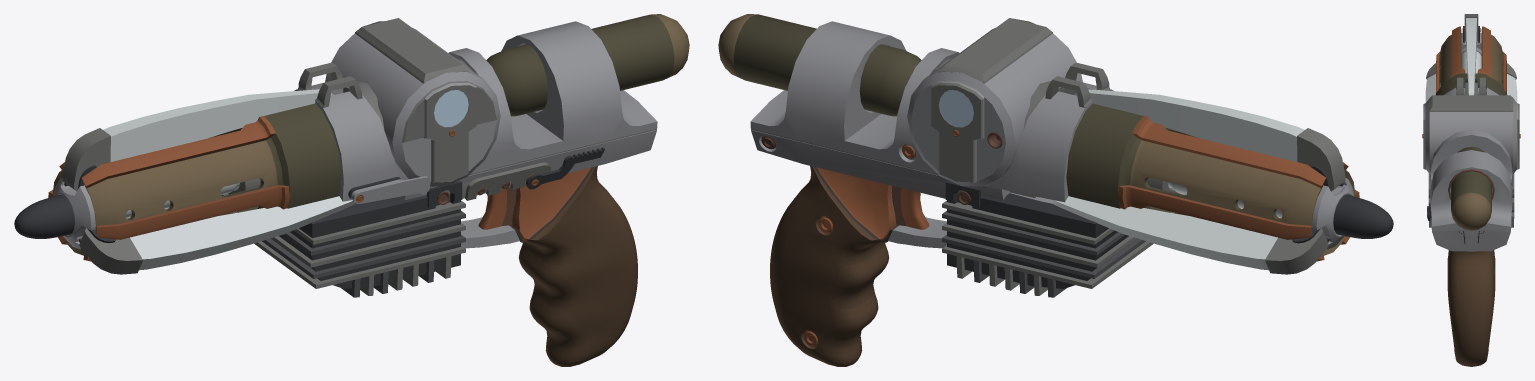
File: grapply.fbx
3 views of the same model, side by side, from view 1: azimuth 30°, elevation 25°; view 2: azimuth 150°, elevation 25°; view 3: azimuth 270°, elevation 25° (orthographic). The views are drawn at different scales.
Parts seen in each view (by area): view 1: Cylinder.002, Cube.001, Cylinder, Cylinder.003, Cylinder.004, Cube.010, Cylinder.010, Cube, Cube.026, Cube.025, Cylinder.014, Cylinder.013 (+14 smaller); view 2: Cylinder.002, Cube.001, Cylinder, Cylinder.004, Cylinder.003, Cube.010, Cylinder.010, Cube, Cube.009, Cube.025, Cylinder.014, Cylinder.013 (+10 smaller); view 3: Cylinder.002, Cube.001, Cylinder.004, Cylinder.003, Cylinder, Cylinder.013, Cylinder.010, Cube.025, Cylinder.014, Cylinder.022, Cube.010, Cube.009 (+6 smaller).
Part boxes in pixels (x1,y1,x2,y2): Cylinder.002: (294, 21, 657, 201); Cube.001: (511, 166, 637, 366); Cylinder: (53, 103, 341, 255); Cylinder.003: (486, 14, 689, 116); Cylinder.004: (325, 27, 500, 186); Cube.010: (254, 200, 465, 288); Cylinder.010: (48, 116, 289, 261); Cube: (279, 190, 460, 288); Cube.026: (130, 196, 355, 270); Cube.025: (103, 89, 333, 161); Cylinder.014: (423, 81, 476, 182); Cylinder.013: (355, 18, 468, 83); Cylinder.002: (750, 21, 1113, 203); Cube.001: (770, 166, 896, 366); Cylinder: (1066, 103, 1354, 255); Cylinder.004: (907, 27, 1082, 186); Cylinder.003: (718, 14, 921, 116); Cube.010: (942, 200, 1153, 288); Cylinder.010: (1118, 116, 1359, 261); Cube: (947, 190, 1128, 288); Cube.009: (1050, 196, 1277, 270); Cube.025: (1074, 89, 1304, 161); Cylinder.014: (931, 81, 984, 182); Cylinder.013: (939, 18, 1052, 83); Cylinder.002: (1430, 86, 1512, 251); Cube.001: (1447, 250, 1495, 366); Cylinder.004: (1426, 98, 1516, 174); Cylinder.003: (1451, 147, 1491, 230); Cylinder: (1436, 34, 1506, 95); Cylinder.013: (1429, 95, 1513, 111); Cylinder.010: (1436, 26, 1506, 92); Cube.025: (1466, 18, 1476, 95); Cylinder.014: (1423, 103, 1519, 169); Cylinder.022: (1456, 77, 1486, 95); Cube.010: (1428, 173, 1514, 218); Cube.009: (1507, 74, 1517, 102).
Size of the model in its own units: 1203 by 609 by 252.
